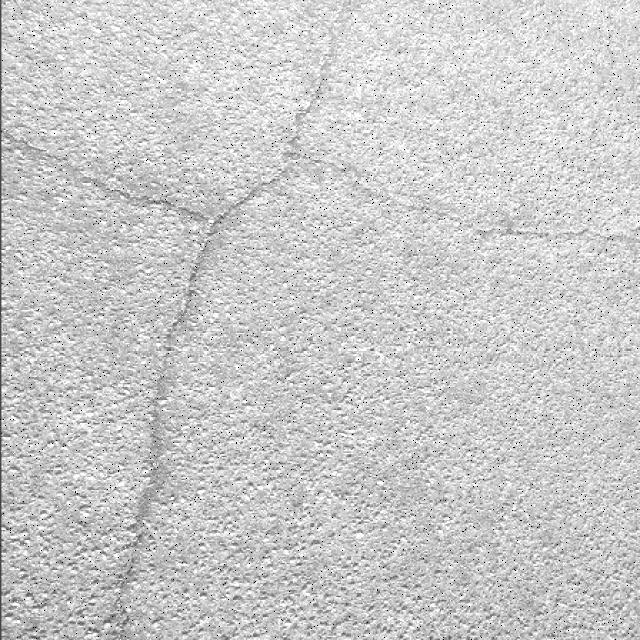Crack: (0, 2, 635, 635)
